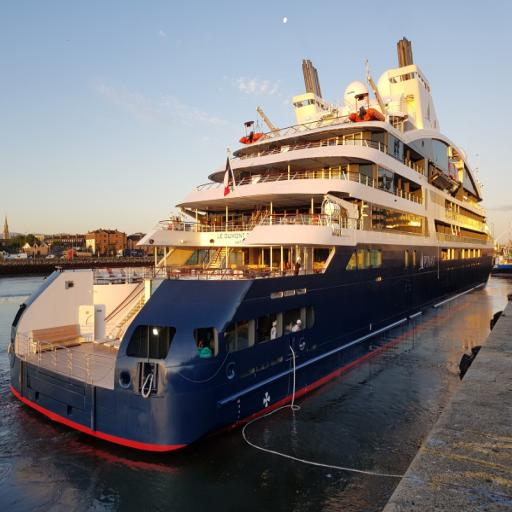cruises: (8, 26, 501, 469)
